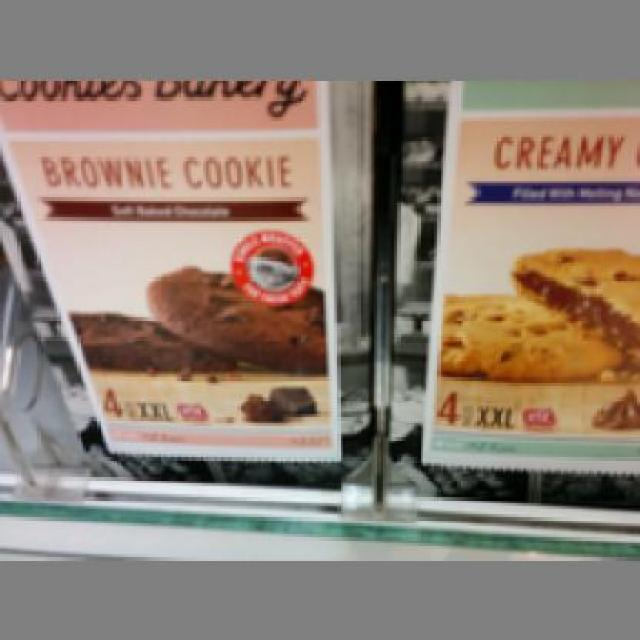Chocolate: (0, 74, 340, 472), (417, 80, 637, 494)
